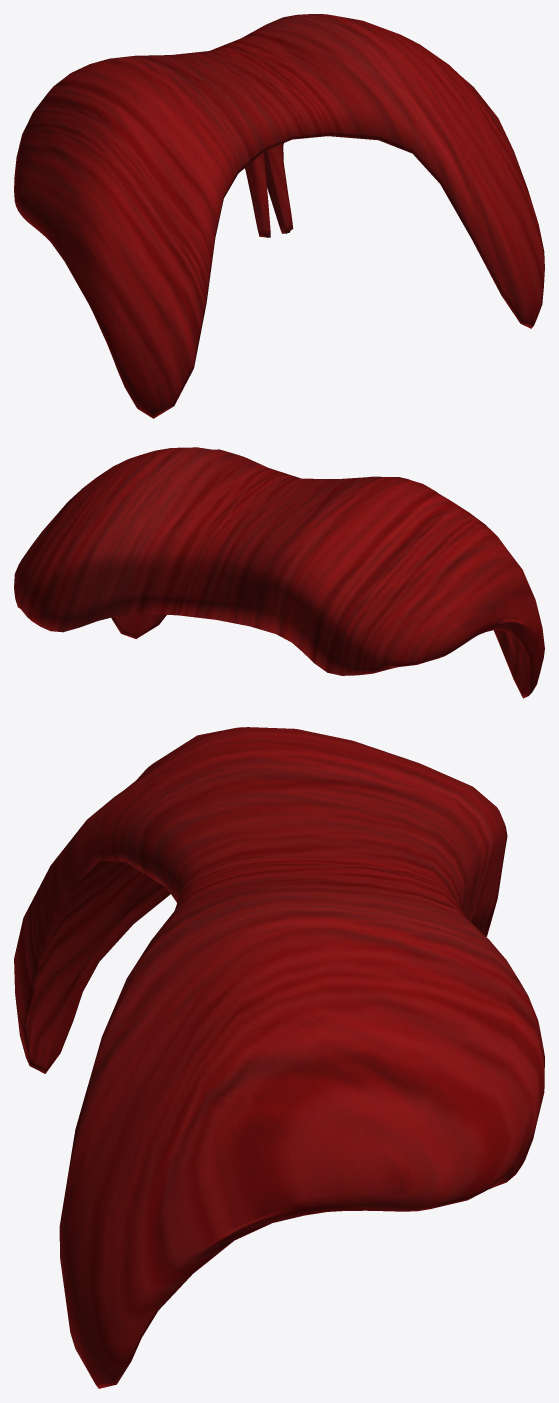
Rendered from diafragma (1).glb.
3 renders of one model, top to bottom at view 1: azimuth 30°, elevation 25°; view 2: azimuth 150°, elevation 25°; view 3: azimuth 270°, elevation 25°, orthographic. The views are drawn at different scales.
Parts seen in each view (by area): view 1: Plane001_01 - Default_0; view 2: Plane001_01 - Default_0; view 3: Plane001_01 - Default_0.
Boxes of the visible parts, x1,y1,x2,y2 form: Plane001_01 - Default_0: (14, 14, 544, 418); Plane001_01 - Default_0: (14, 447, 544, 698); Plane001_01 - Default_0: (14, 727, 544, 1388).
Bounding box in the file's own units: 64.35 × 37.61 × 43.45.
Materials: 1 (1 with a texture image).
